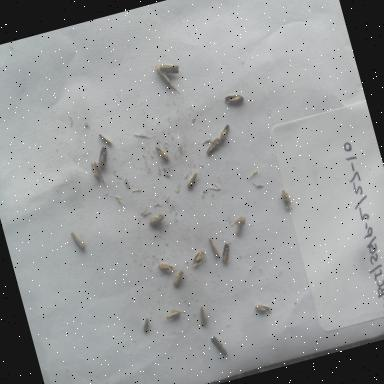pbw: (90, 144, 114, 174), (66, 226, 88, 256), (208, 332, 230, 362), (152, 64, 174, 91), (186, 248, 210, 272), (156, 56, 182, 78), (202, 135, 224, 158), (86, 158, 104, 186), (218, 242, 237, 268), (182, 169, 204, 191), (168, 268, 190, 290), (222, 88, 246, 108), (195, 302, 212, 329), (153, 142, 172, 166), (279, 186, 296, 212), (230, 214, 249, 237), (205, 234, 221, 261), (162, 304, 184, 323), (156, 258, 176, 278), (215, 123, 234, 144), (146, 210, 168, 228), (96, 128, 114, 149), (139, 314, 156, 336), (253, 300, 273, 318)
